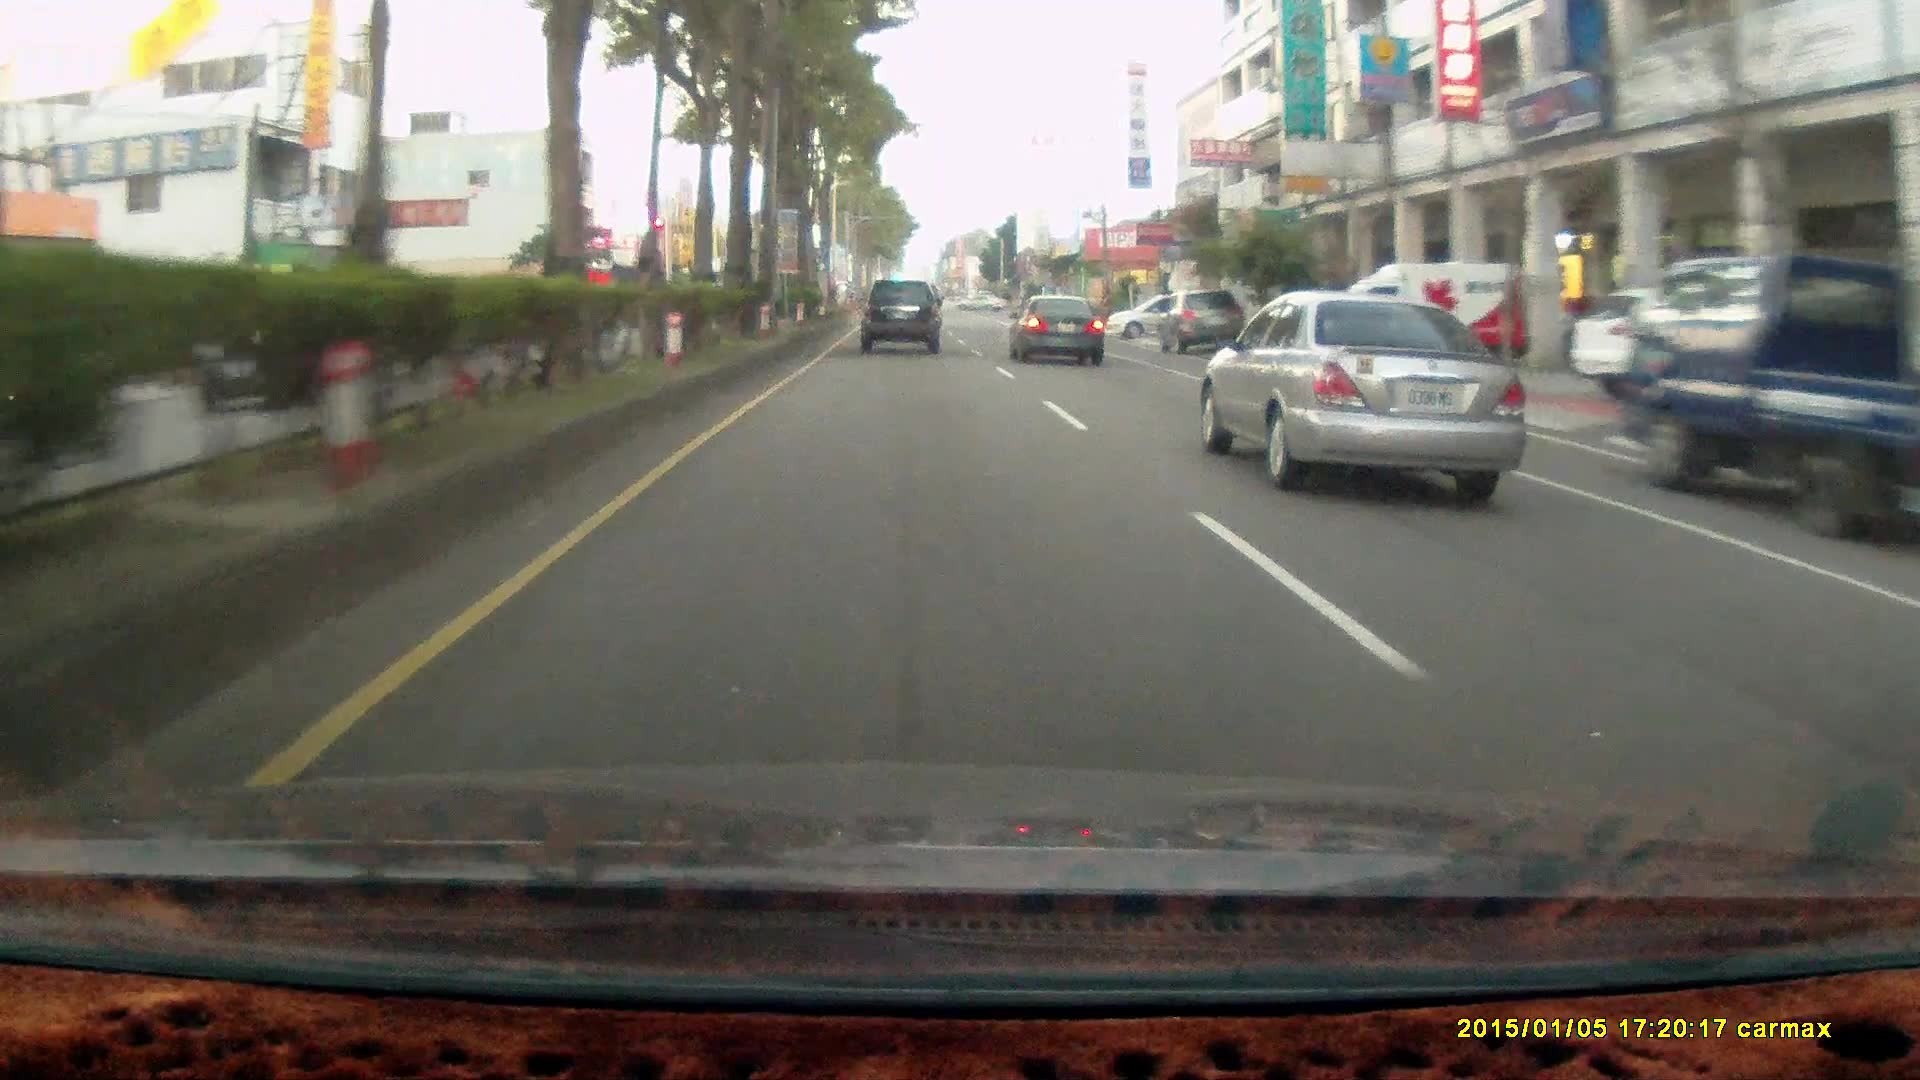vehicle: (1619, 252, 1920, 543), (1208, 289, 1536, 491), (1332, 257, 1528, 380), (1337, 258, 1532, 380), (1007, 289, 1109, 367), (1009, 287, 1105, 360), (858, 280, 944, 357), (858, 276, 939, 351), (1162, 289, 1247, 357), (1156, 287, 1244, 353)
